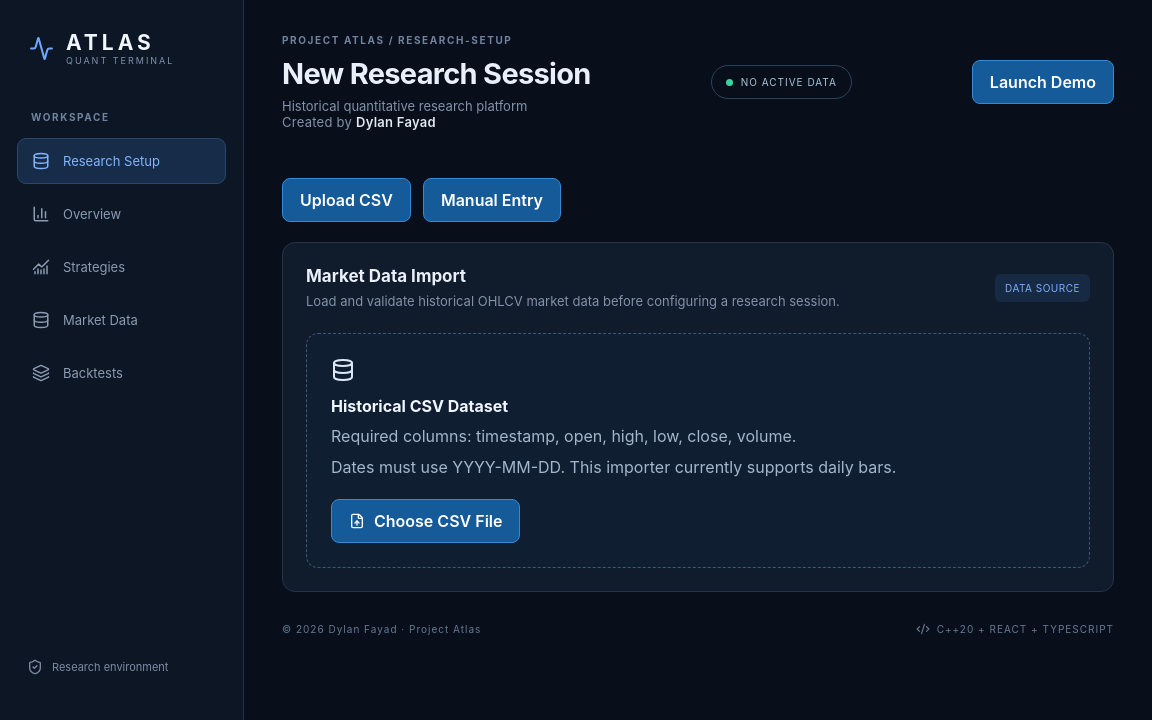
Test: Demo loading race conditions › ignores late demo responses after exiting
The image size is (1152, 720).
Click the button "Launch Demo".
click(1043, 82)  # box [972,60,1114,104]
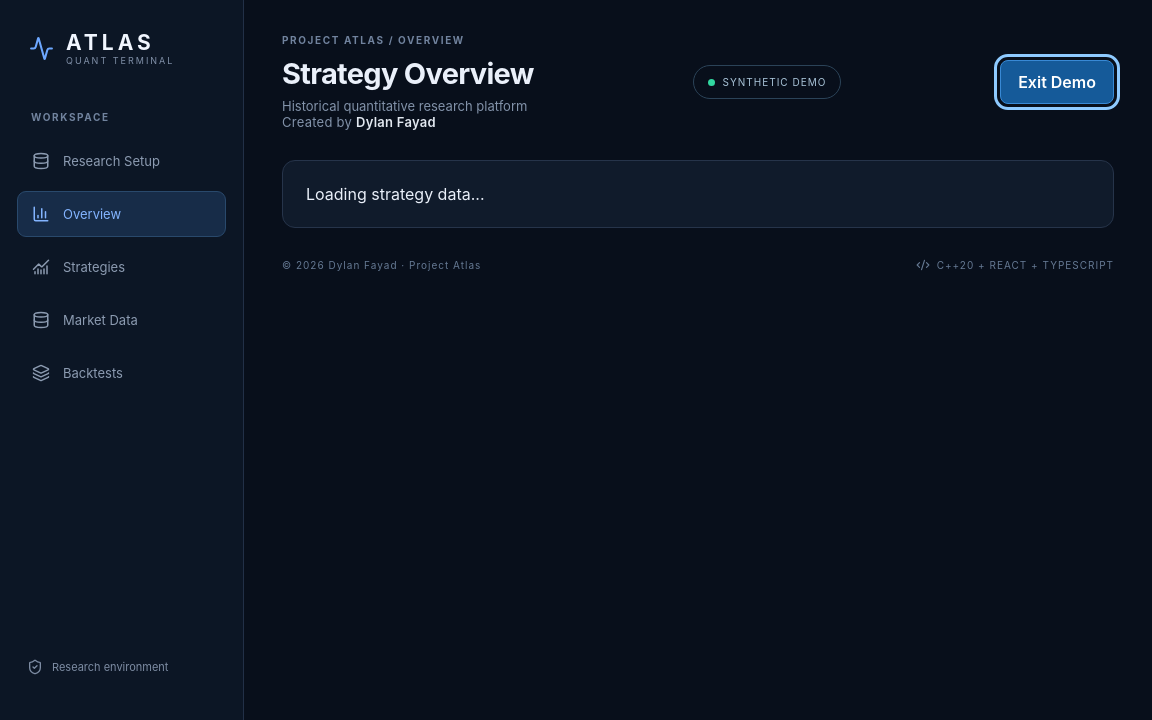
Click the button "Exit Demo".
click(1057, 82)  # box [1000,60,1114,104]
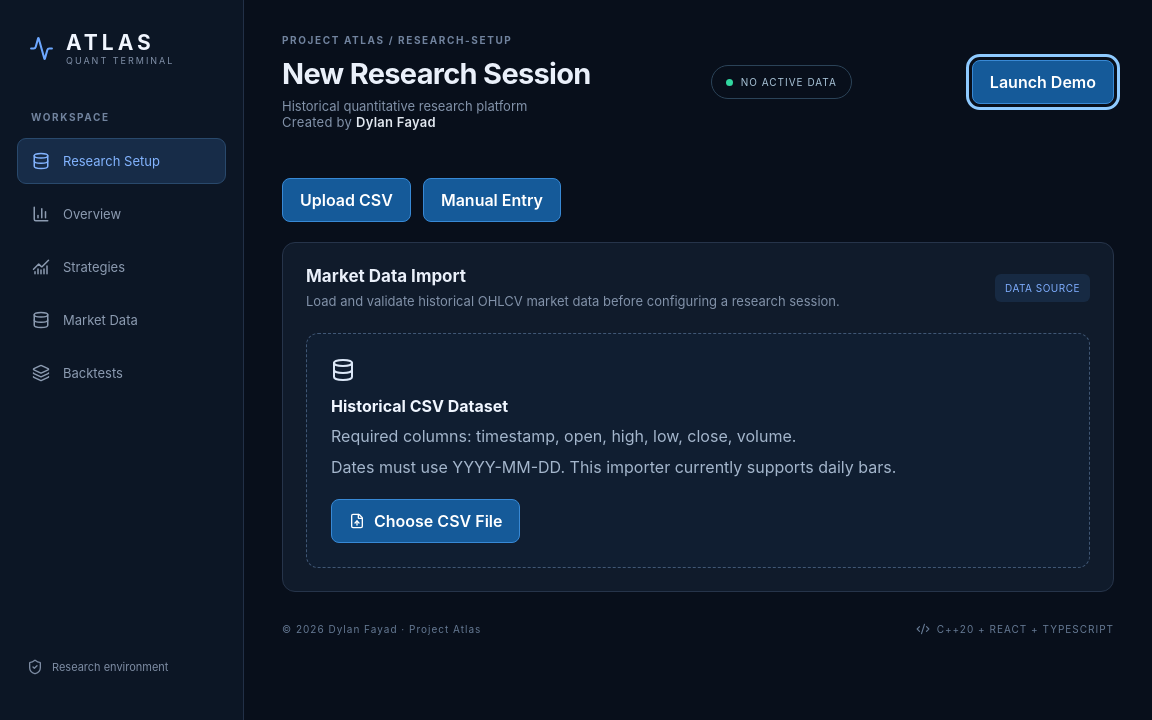
Click the button "Overview".
click(122, 214)  # box [17,191,226,237]
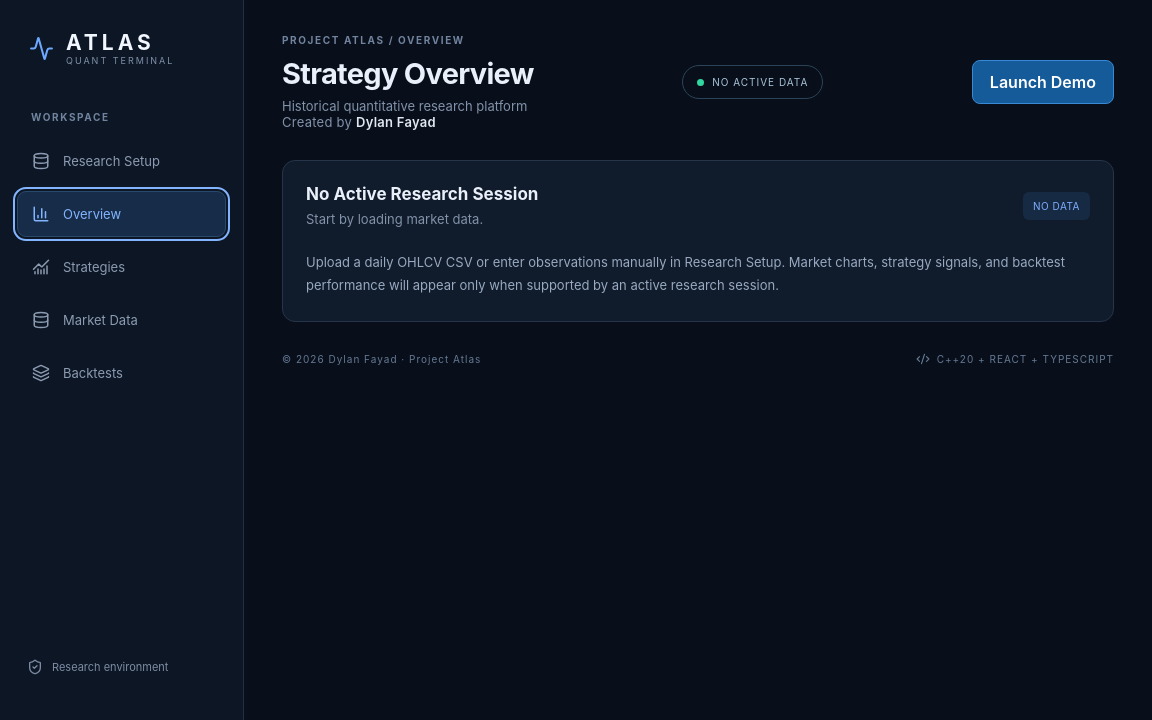
expect the heading "No Active Research Session" is shown: met, box [306,184,538,204]
